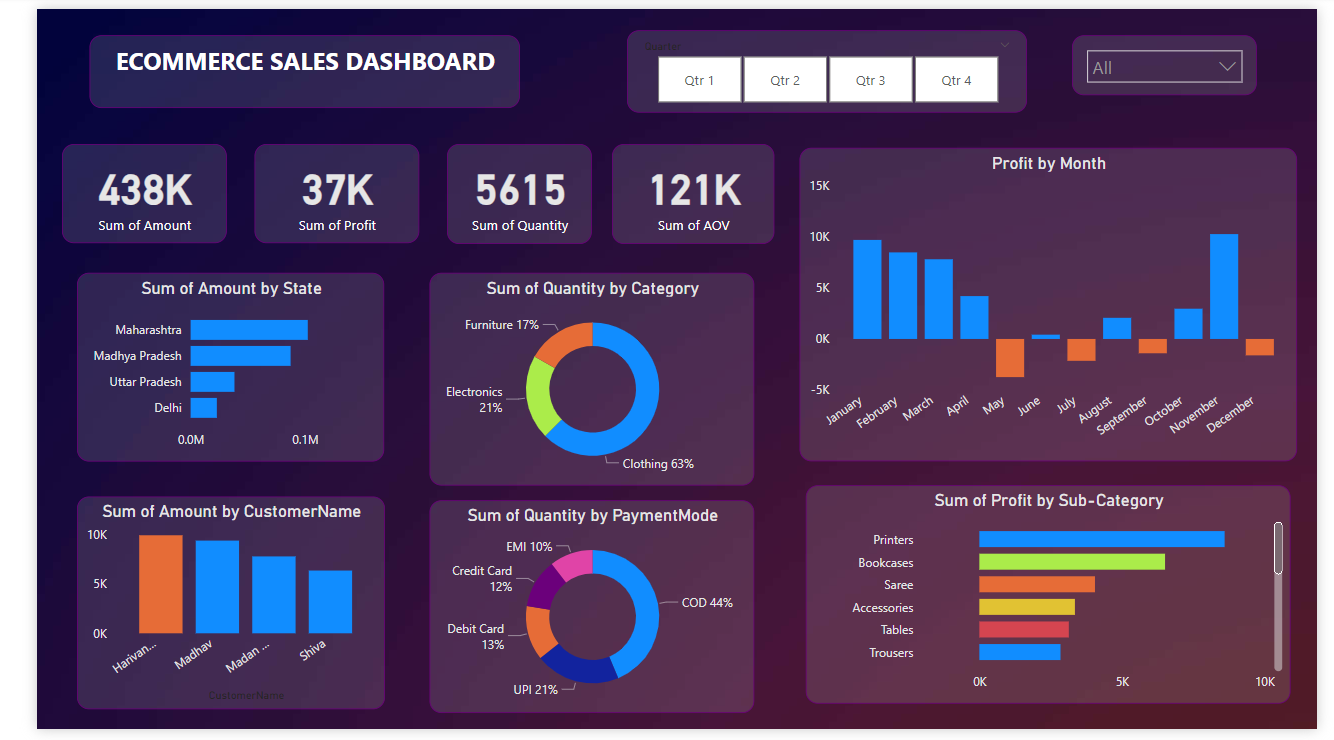

Layout of this report page (visuals, bound fields, positions):
{"tool":"powerbi","page":{"name":"Page 1","canvas":[1280,720],"ordinal":0},"visuals":[{"type":"columnChart","title":" Profit by Month","fields":{"Y":["Sum(Details.Profit)"],"Category":["Orders data.Order Date.Variation.Date Hierarchy.Month"]},"box":[762.5,138.8,497.5,313.8],"z":1},{"type":"barChart","fields":{"Y":["Sum(Details.Profit)"],"Category":["Details.Sub-Category"]},"box":[762.5,485,517.5,218.8],"z":2},{"type":"textbox","box":[52.5,26.2,430,72.5],"z":3},{"type":"donutChart","fields":{"Category":["Details.Category"],"Y":["Sum(Details.Quantity)"]},"box":[392.5,263.8,325,212.5],"z":4},{"type":"donutChart","fields":{"Category":["Details.PaymentMode"],"Y":["Sum(Details.Quantity)"]},"box":[392.5,491.2,325,212.5],"z":5},{"type":"card","fields":{"Values":["Sum(Details.Amount)"]},"box":[25.6,134.4,164.4,98.9],"z":6},{"type":"card","fields":{"Values":["Sum(Details.Profit)"]},"box":[217.8,134.4,164.4,98.9],"z":7},{"type":"card","fields":{"Values":["Sum(Details.Quantity)"]},"box":[410,135,145,100],"z":8},{"type":"card","fields":{"Values":["Sum(Details.AOV)"]},"box":[575,135,162.5,100],"z":9},{"type":"barChart","fields":{"Category":["Orders data.State"],"Y":["Sum(Details.Amount)"]},"box":[40,263.8,307.5,188.8],"z":10},{"type":"columnChart","fields":{"Category":["Orders data.CustomerName"],"Y":["Sum(Details.Amount)"]},"box":[40,488,308,213],"z":11},{"type":"slicer","fields":{"Values":["Orders data.Order Date.Variation.Date Hierarchy.Quarter"]},"box":[590,21.2,400,82.5],"z":12},{"type":"slicer","fields":{"Values":["Orders data.State"]},"box":[1035,26.2,185,60],"z":13}]}

Visuals, with their boxes in screenshot pixels (x1, y1, x2, y2), scaled from the page's 1280x720 canvas onto the 1334x740 screenshot:
" Profit by Month" columnChart: <bbox>795, 143, 1313, 465</bbox>
barChart - Sum(Details.Profit) x Details.Sub-Category: <bbox>795, 498, 1333, 723</bbox>
textbox: <bbox>55, 27, 503, 101</bbox>
donutChart - Details.Category x Sum(Details.Quantity): <bbox>409, 271, 748, 490</bbox>
donutChart - Details.PaymentMode x Sum(Details.Quantity): <bbox>409, 505, 748, 723</bbox>
card - Sum(Details.Amount): <bbox>27, 138, 198, 240</bbox>
card - Sum(Details.Profit): <bbox>227, 138, 398, 240</bbox>
card - Sum(Details.Quantity): <bbox>427, 139, 578, 242</bbox>
card - Sum(Details.AOV): <bbox>599, 139, 769, 242</bbox>
barChart - Orders data.State x Sum(Details.Amount): <bbox>42, 271, 362, 465</bbox>
columnChart - Orders data.CustomerName x Sum(Details.Amount): <bbox>42, 502, 363, 720</bbox>
slicer - Orders data.Order Date.Variation.Date Hierarchy.Quarter: <bbox>615, 22, 1032, 107</bbox>
slicer - Orders data.State: <bbox>1079, 27, 1271, 89</bbox>
